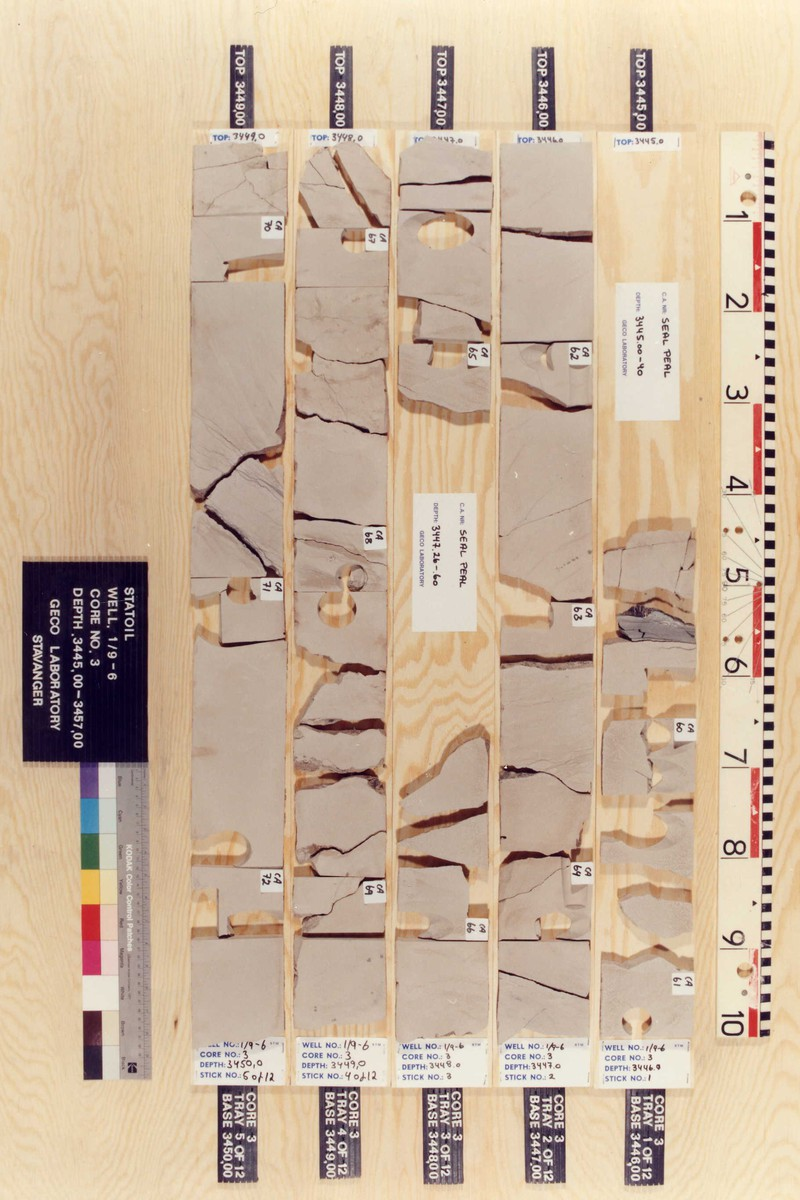core: (189, 143, 286, 1042), (297, 142, 391, 1034), (399, 140, 492, 1040), (502, 145, 593, 1041), (603, 534, 697, 1042)
